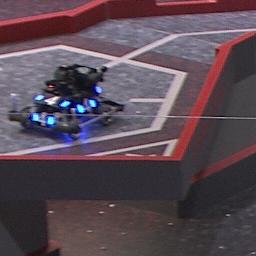Blue: (33, 92, 70, 108), (31, 110, 54, 128), (75, 98, 97, 114)
Robot: (8, 65, 123, 138)
